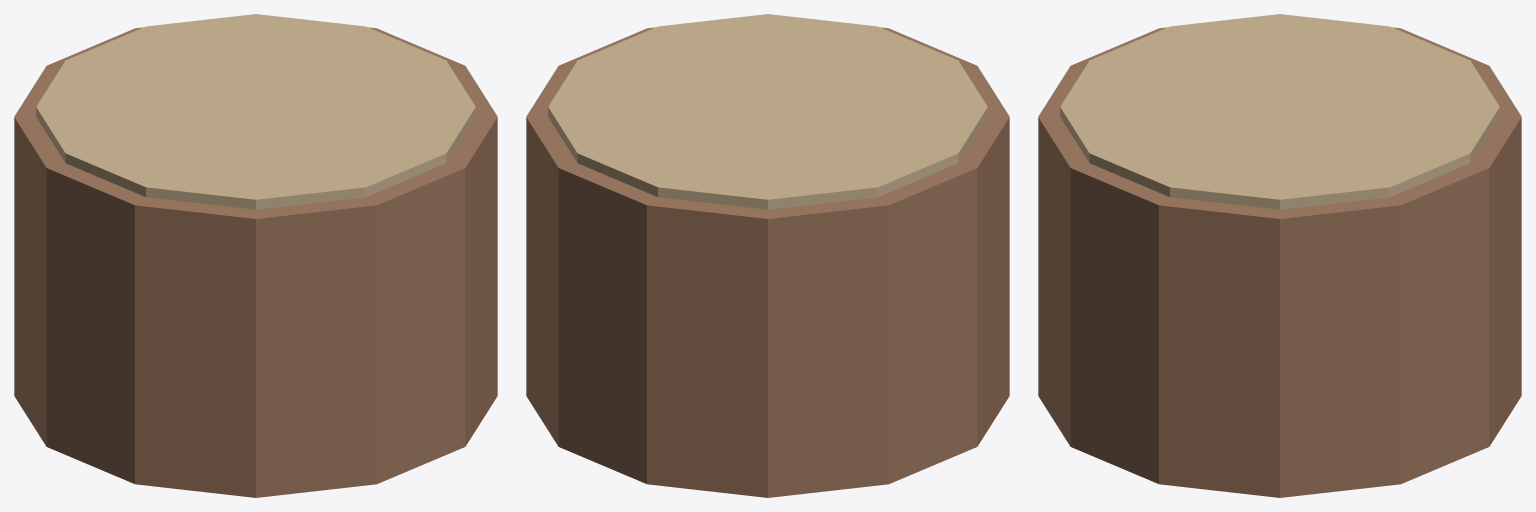
File: Stump.glb
The picture shows the model from 3 angles, left to right: view 1: azimuth 30°, elevation 25°; view 2: azimuth 150°, elevation 25°; view 3: azimuth 270°, elevation 25°; orthographic projection.
Visible parts, largest first — view 1: Stump, Stump top; view 2: Stump, Stump top; view 3: Stump, Stump top.
Boxes of the visible parts, x1,y1,x2,y2 form: Stump: (14,27,497,497); Stump top: (36,14,475,209); Stump: (526,27,1009,497); Stump top: (548,14,987,209); Stump: (1038,27,1521,497); Stump top: (1060,14,1499,209).
Bounding box in the file's own units: 1.1 × 0.725 × 1.1.
